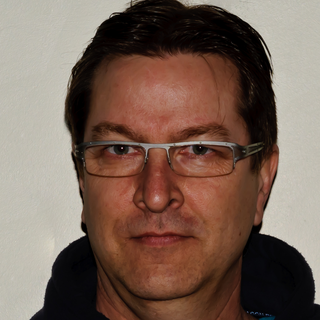eye: (176, 139, 221, 163), (99, 140, 140, 160)
